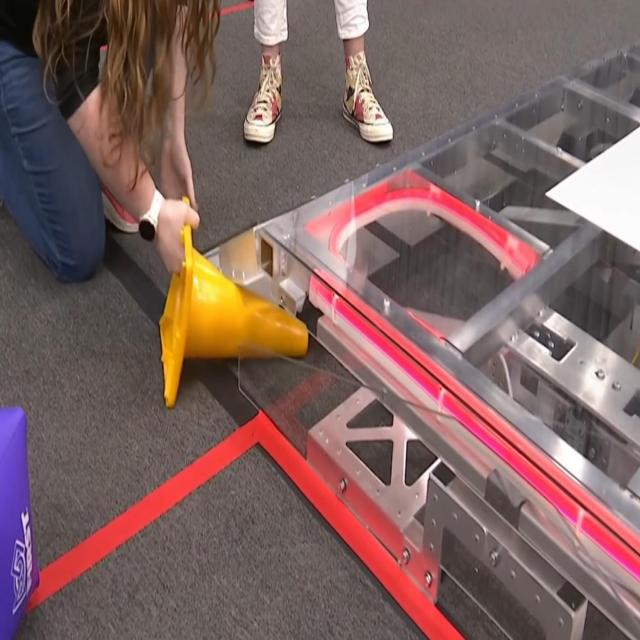frc_cone: (158, 197, 310, 407)
frc_cube: (0, 403, 40, 640)
